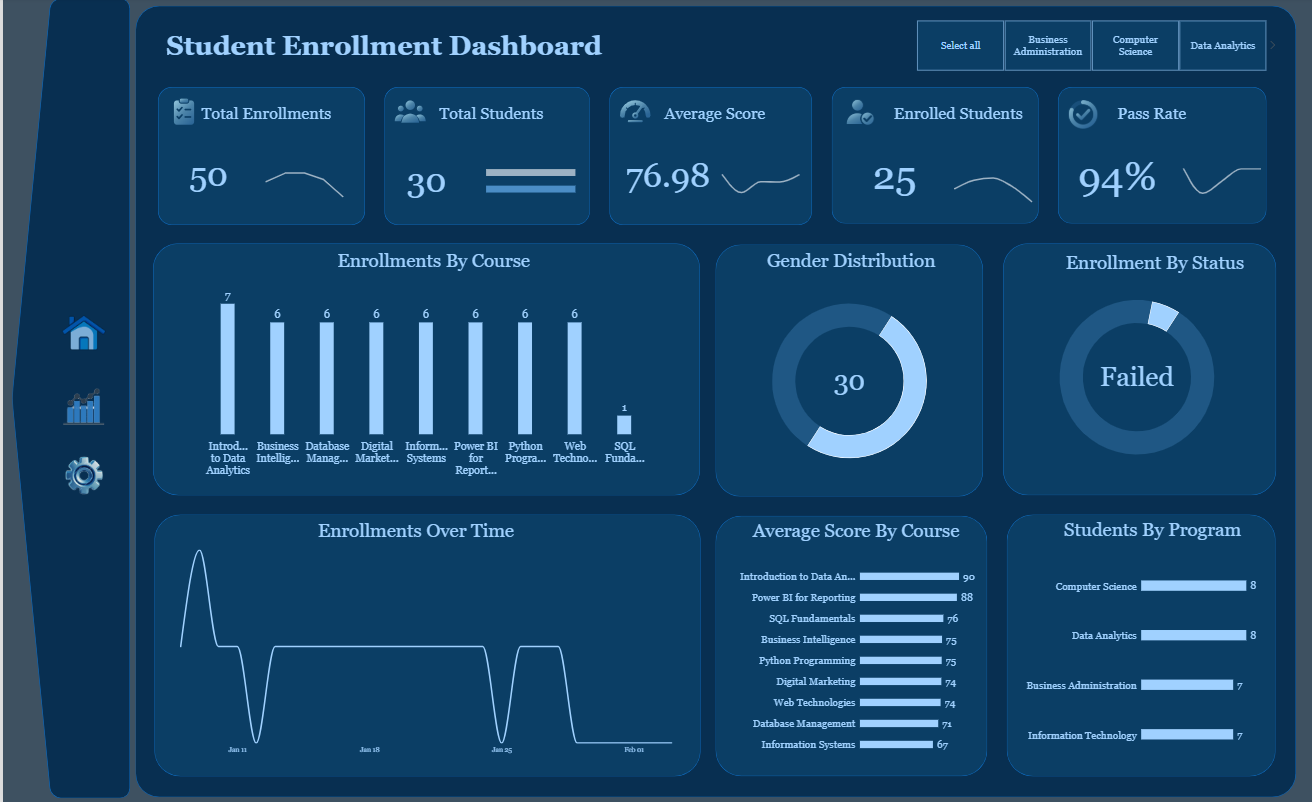

The page's visual inventory and layout, read from the dashboard file:
{"tool":"powerbi","page":{"name":"Student Enrollment ","canvas":[2600,1600],"ordinal":0},"visuals":[{"type":"shape","box":[16.9,3.3,234.1,1583.2],"z":0},{"type":"shape","box":[262,16.7,2296.7,1566.5],"z":1000},{"type":"shape","box":[297,488.4,1082.5,499],"z":2000},{"type":"shape","box":[754.7,178.4,406.9,273.2],"z":3000},{"type":"shape","box":[2087.7,178.4,412.5,270.4],"z":4000},{"type":"shape","box":[1639.6,178.4,409.7,270.4],"z":5000},{"type":"shape","box":[306.6,178.4,409.7,273.2],"z":6000},{"type":"shape","box":[1199.9,178.4,401.4,273.2],"z":7000},{"type":"shape","box":[298.2,1022.9,1081.5,518.4],"z":8000},{"type":"shape","box":[1410.4,490.6,529.6,498.9],"z":9000},{"type":"shape","box":[1979,487.8,540.7,498.9],"z":10000},{"type":"shape","box":[1410.4,1025.7,538,515.7],"z":11000},{"type":"shape","box":[1987.4,1022.9,532.4,518.4],"z":12000},{"type":"image","box":[114.3,621.6,94.8,97.6],"z":13000},{"type":"image","box":[114.3,773.9,94.8,80],"z":14000},{"type":"image","box":[114.3,908.7,94,80],"z":15000},{"type":"textbox","box":[306.6,66.9,894.7,83.6],"z":16000},{"type":"textbox","box":[376.3,211.8,298.2,47.4],"z":17000},{"type":"textbox","box":[811.1,211.8,317.8,41.8],"z":18000},{"type":"textbox","box":[1276.6,211.8,264.8,47.4],"z":19000},{"type":"textbox","box":[1730.9,211.8,317.8,41.8],"z":20000},{"type":"textbox","box":[2171.3,211.8,203.5,47.4],"z":21000},{"type":"textbox","box":[2101.6,504.5,354,47.4],"z":22000},{"type":"textbox","box":[1502.4,498.9,354,47.4],"z":23000},{"type":"textbox","box":[577,498.9,551.9,47.4],"z":24000},{"type":"textbox","box":[577,1034.1,490.6,72.5],"z":25000},{"type":"textbox","box":[1438.3,1034.1,501.7,47.4],"z":26000},{"type":"textbox","box":[2098.8,1031.3,354,47.4],"z":27000},{"type":"cardVisual","fields":{"Data":["Enrollment.Total Enrollments"]},"box":[376.3,253.6,175.6,133.8],"z":28000},{"type":"cardVisual","fields":{"Data":["Enrollment.Total Students"]},"box":[811.1,264.8,167.2,108.7],"z":29000},{"type":"cardVisual","fields":{"Data":["Enrollment.Average Score"]},"box":[1257.1,242.5,242.5,142.2],"z":30000},{"type":"cardVisual","fields":{"Data":["Enrollment.Enrolled Students"]},"box":[1697.5,253.6,170,117.1],"z":31000},{"type":"cardVisual","fields":{"Data":["Enrollment.Pass Rate"]},"box":[2135.1,267.6,206.3,105.9],"z":32000},{"type":"clusteredColumnChart","fields":{"Category":["Courses.Course_Name"],"Y":["Enrollment.Total Enrollments"]},"box":[317.8,551.9,1042.5,415.3],"z":33000},{"type":"lineChart","fields":{"Category":["Date.Date.Variation.Date Hierarchy.Year","Date.Date.Variation.Date Hierarchy.Quarter","Date.Date.Variation.Date Hierarchy.Month","Date.Date.Variation.Date Hierarchy.Day"],"Y":["Enrollment.Total Enrollments"]},"box":[317.8,1070.3,1042.5,446],"z":34000},{"type":"donutChart","fields":{"Category":["Students.Gender"],"Y":["Enrollment.Total Students"]},"box":[1429.9,554.7,490.6,412.5],"z":35000},{"type":"donutChart","fields":{"Category":["Enrollment.Status"],"Y":["Enrollment.Total Enrollments"]},"box":[1998.5,546.3,490.6,412.5],"z":36000},{"type":"clusteredBarChart","fields":{"Category":["Courses.Course_Name"],"Y":["Enrollment.Average Score"]},"box":[1429.9,1078.7,510.1,462.7],"z":37000},{"type":"clusteredBarChart","fields":{"Category":["Students.Program"],"Y":["Enrollment.Total Students"]},"box":[1987.4,1106.6,510.1,409.7],"z":38000},{"type":"slicer","fields":{"Values":["Students.Program"]},"box":[1789.5,44.6,730.3,103.1],"z":39000},{"type":"image","box":[317.8,195.1,83.6,64.1],"z":40000},{"type":"image","box":[764.2,195.1,83,64],"z":41000},{"type":"image","box":[1210,189.5,83,64],"z":42000},{"type":"image","box":[1655.8,195.1,83,64.1],"z":43000},{"type":"image","box":[2101.6,200.7,69.7,64.1],"z":44000},{"type":"lineChart","fields":{"Category":["Date.Week Start.Variation.Date Hierarchy.Year","Date.Week Start.Variation.Date Hierarchy.Quarter","Date.Week Start.Variation.Date Hierarchy.Month","Date.Week Start.Variation.Date Hierarchy.Day"],"Y":["Enrollment.Total Enrollments"]},"box":[473.8,348.4,203.5,103.1],"z":45000},{"type":"lineChart","fields":{"Category":["Date.Week Start.Variation.Date Hierarchy.Year","Date.Week Start.Variation.Date Hierarchy.Quarter","Date.Week Start.Variation.Date Hierarchy.Month","Date.Week Start.Variation.Date Hierarchy.Day"],"Y":["Enrollment.Average Score"]},"box":[1379.7,356.8,203.5,103.1],"z":46000},{"type":"lineChart","fields":{"Category":["Date.Week Start.Variation.Date Hierarchy.Year","Date.Week Start.Variation.Date Hierarchy.Quarter","Date.Week Start.Variation.Date Hierarchy.Month","Date.Week Start.Variation.Date Hierarchy.Day"],"Y":["Enrollment.Enrolled Students"]},"box":[1820.1,331.7,203.5,103.1],"z":47000},{"type":"hundredPercentStackedBarChart","fields":{"Category":["Students.Student Status"],"Y":["Enrollment.Total Students"]},"box":[939.3,326.1,209,119.9],"z":48000},{"type":"lineChart","fields":{"Category":["Date.Week Start.Variation.Date Hierarchy.Year","Date.Week Start.Variation.Date Hierarchy.Quarter","Date.Week Start.Variation.Date Hierarchy.Month","Date.Week Start.Variation.Date Hierarchy.Day"],"Y":["Enrollment.Pass Rate"]},"box":[2299.5,348.4,203.5,103.1],"z":49000}]}

Visuals, with their boxes on the page's 2600x1600 design canvas (x1, y1, x2, y2). These are canvas units, not pixel positions in the 1312x802 screenshot, which may show the page scaled, cropped or inside an application window:
shape: Rect(17, 3, 251, 1586)
shape: Rect(262, 17, 2559, 1583)
shape: Rect(297, 488, 1380, 987)
shape: Rect(755, 178, 1162, 452)
shape: Rect(2088, 178, 2500, 449)
shape: Rect(1640, 178, 2049, 449)
shape: Rect(307, 178, 716, 452)
shape: Rect(1200, 178, 1601, 452)
shape: Rect(298, 1023, 1380, 1541)
shape: Rect(1410, 491, 1940, 990)
shape: Rect(1979, 488, 2520, 987)
shape: Rect(1410, 1026, 1948, 1541)
shape: Rect(1987, 1023, 2520, 1541)
image: Rect(114, 622, 209, 719)
image: Rect(114, 774, 209, 854)
image: Rect(114, 909, 208, 989)
textbox: Rect(307, 67, 1201, 150)
textbox: Rect(376, 212, 674, 259)
textbox: Rect(811, 212, 1129, 254)
textbox: Rect(1277, 212, 1541, 259)
textbox: Rect(1731, 212, 2049, 254)
textbox: Rect(2171, 212, 2375, 259)
textbox: Rect(2102, 504, 2456, 552)
textbox: Rect(1502, 499, 1856, 546)
textbox: Rect(577, 499, 1129, 546)
textbox: Rect(577, 1034, 1068, 1107)
textbox: Rect(1438, 1034, 1940, 1082)
textbox: Rect(2099, 1031, 2453, 1079)
cardVisual - Enrollment.Total Enrollments: Rect(376, 254, 552, 387)
cardVisual - Enrollment.Total Students: Rect(811, 265, 978, 374)
cardVisual - Enrollment.Average Score: Rect(1257, 242, 1500, 385)
cardVisual - Enrollment.Enrolled Students: Rect(1698, 254, 1868, 371)
cardVisual - Enrollment.Pass Rate: Rect(2135, 268, 2341, 374)
clusteredColumnChart - Courses.Course_Name x Enrollment.Total Enrollments: Rect(318, 552, 1360, 967)
lineChart - Date.Date.Variation.Date Hierarchy.Year x Date.Date.Variation.Date Hierarchy.Quarter: Rect(318, 1070, 1360, 1516)
donutChart - Students.Gender x Enrollment.Total Students: Rect(1430, 555, 1920, 967)
donutChart - Enrollment.Status x Enrollment.Total Enrollments: Rect(1998, 546, 2489, 959)
clusteredBarChart - Courses.Course_Name x Enrollment.Average Score: Rect(1430, 1079, 1940, 1541)
clusteredBarChart - Students.Program x Enrollment.Total Students: Rect(1987, 1107, 2498, 1516)
slicer - Students.Program: Rect(1790, 45, 2520, 148)
image: Rect(318, 195, 401, 259)
image: Rect(764, 195, 847, 259)
image: Rect(1210, 190, 1293, 254)
image: Rect(1656, 195, 1739, 259)
image: Rect(2102, 201, 2171, 265)
lineChart - Date.Week Start.Variation.Date Hierarchy.Year x Date.Week Start.Variation.Date Hierarchy.Quarter: Rect(474, 348, 677, 452)
lineChart - Date.Week Start.Variation.Date Hierarchy.Year x Date.Week Start.Variation.Date Hierarchy.Quarter: Rect(1380, 357, 1583, 460)
lineChart - Date.Week Start.Variation.Date Hierarchy.Year x Date.Week Start.Variation.Date Hierarchy.Quarter: Rect(1820, 332, 2024, 435)
hundredPercentStackedBarChart - Students.Student Status x Enrollment.Total Students: Rect(939, 326, 1148, 446)
lineChart - Date.Week Start.Variation.Date Hierarchy.Year x Date.Week Start.Variation.Date Hierarchy.Quarter: Rect(2300, 348, 2503, 452)
